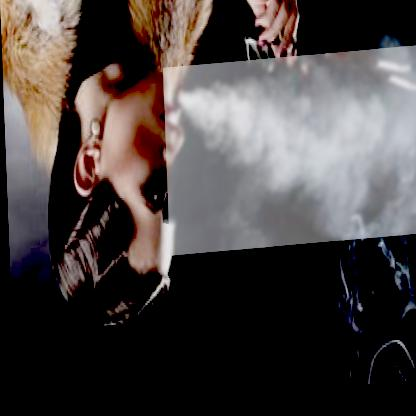smoke: (162, 53, 416, 259)
